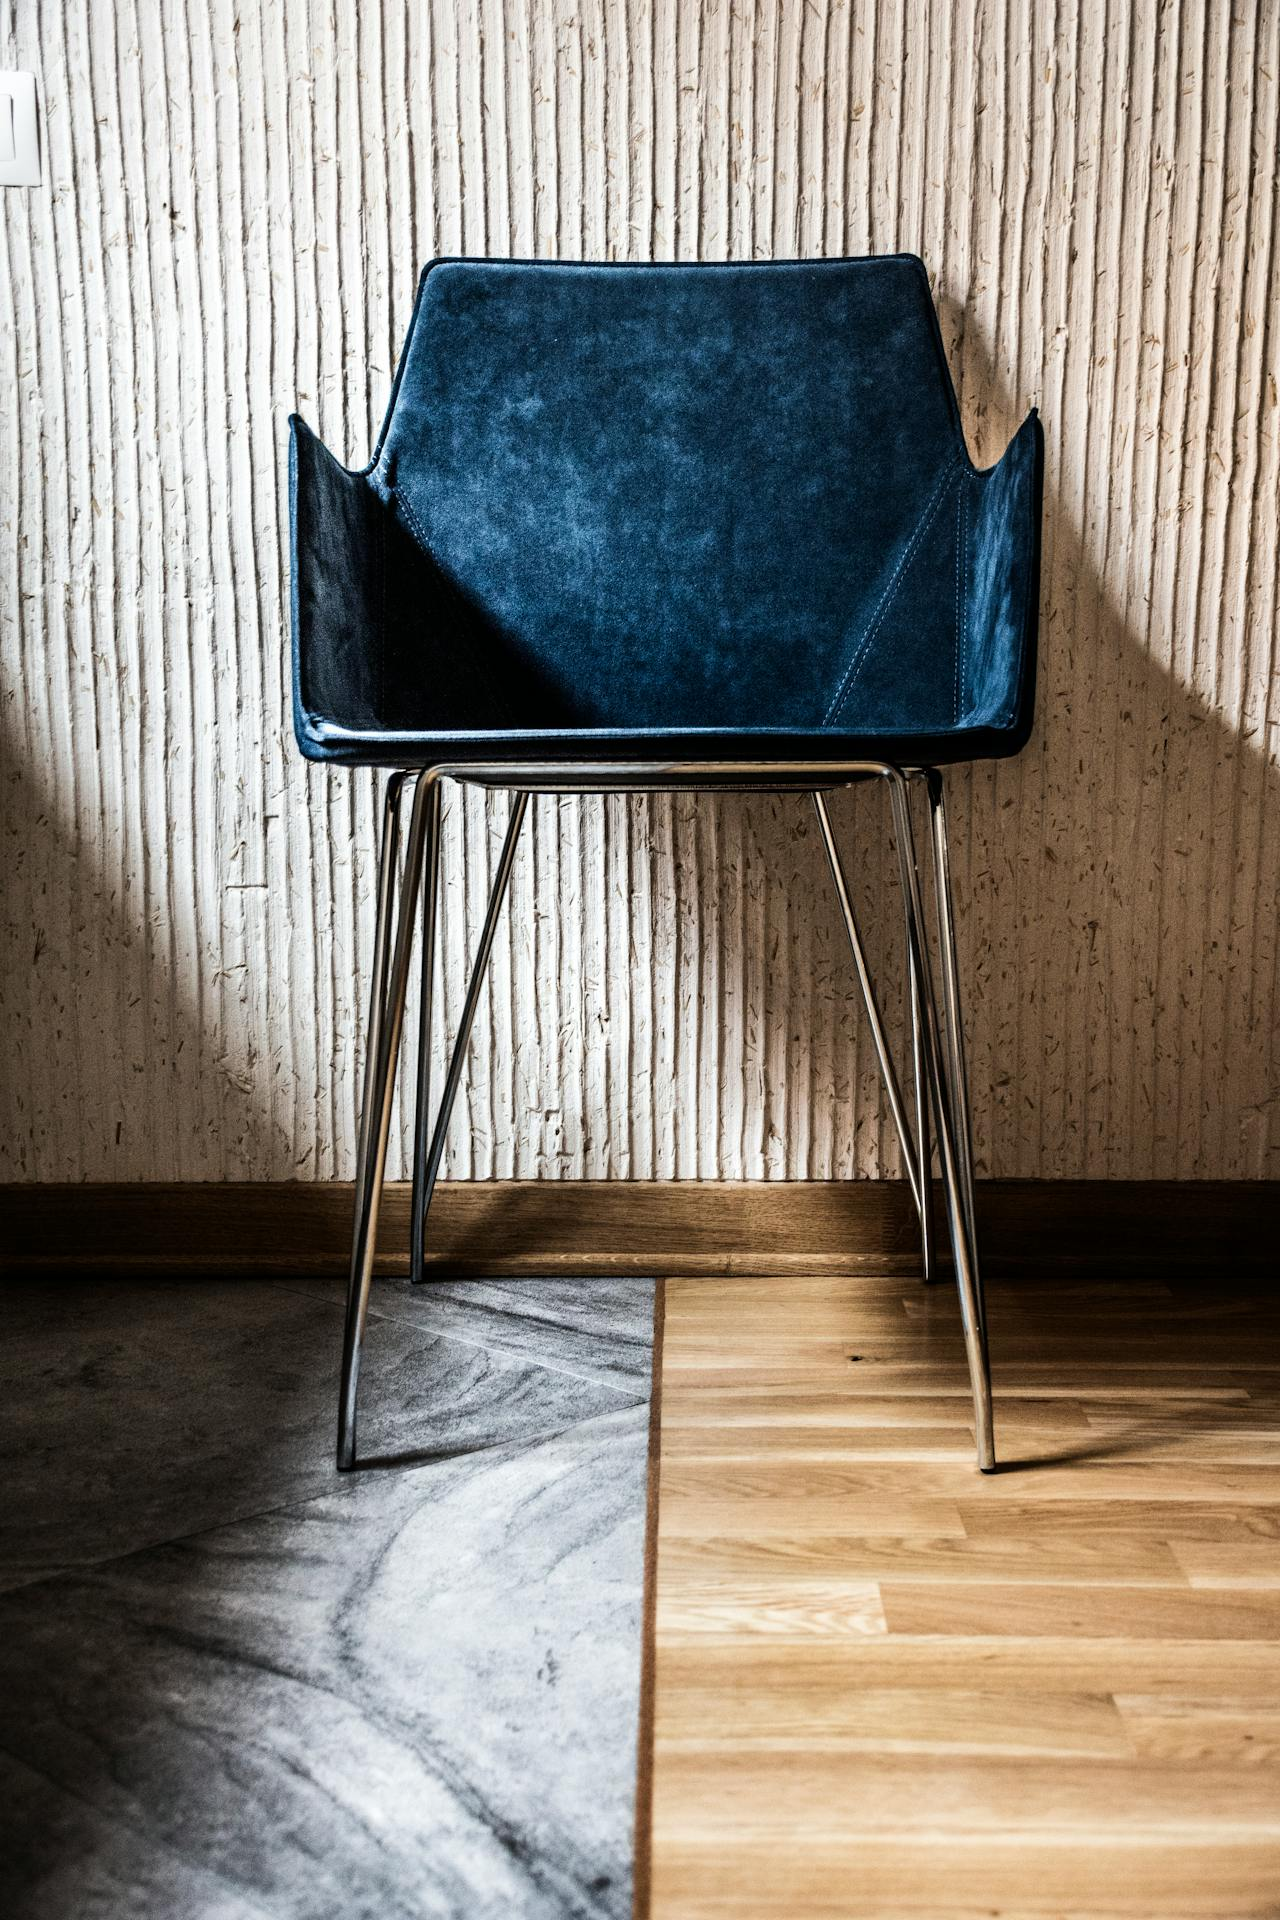chair: (221, 174, 1087, 1506)
